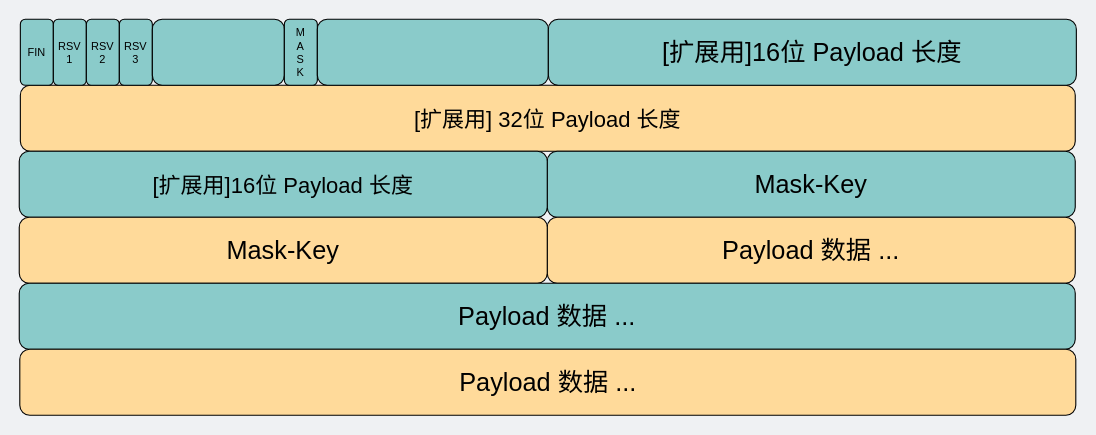
This 1096x435 diagram has some shape labels left out. Here are the shapes that lost their labels. From the top down, the centre of each, then its label:
the point at 217,51: 4位 opcode
the point at 432,51: 7位 Payload 长度
